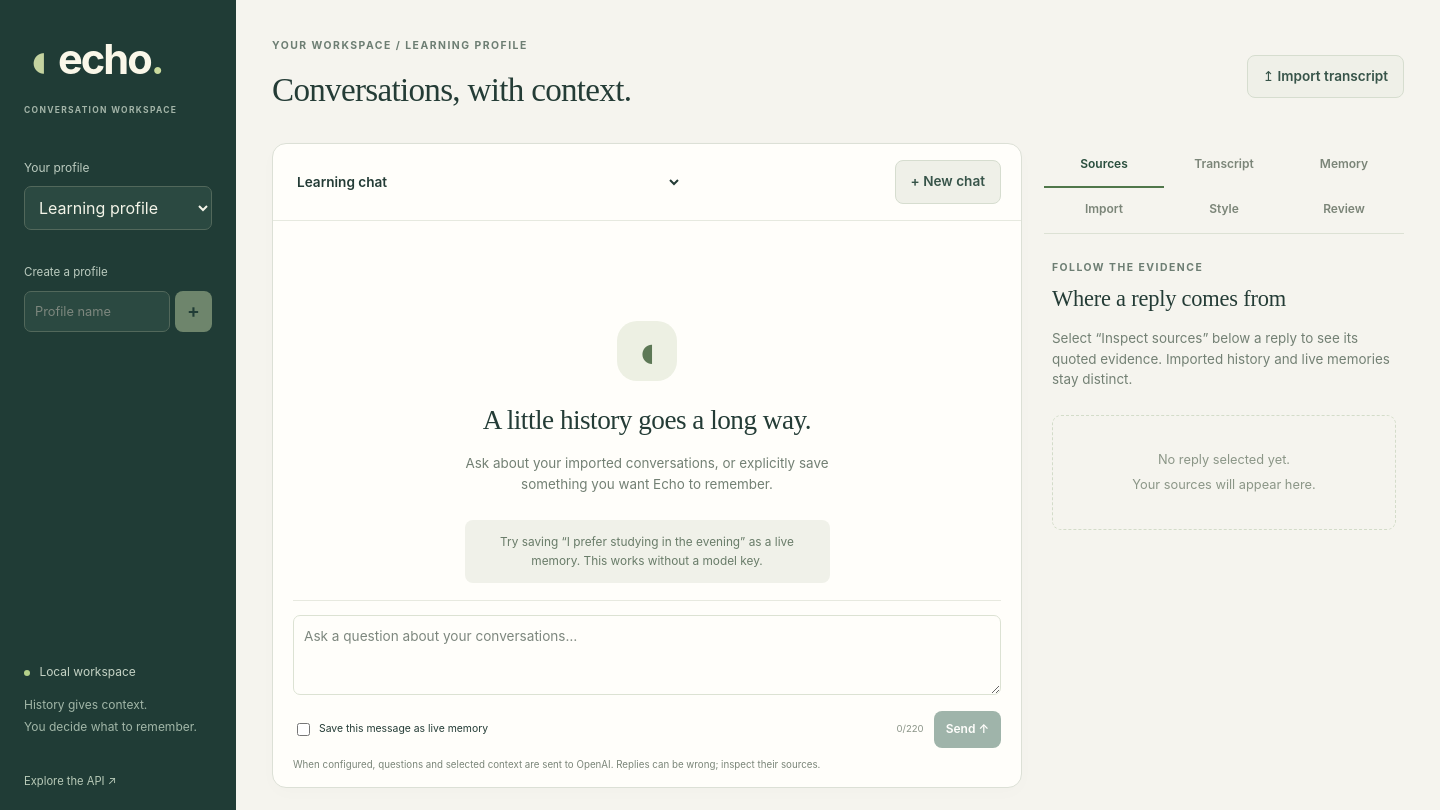
Test: revision conflicts refresh the stored revision before a deliberate retry
Type "When do I study?" into the text box named "Message".
click(647, 655); type("When do I study?")  # box [293,615,1001,695]
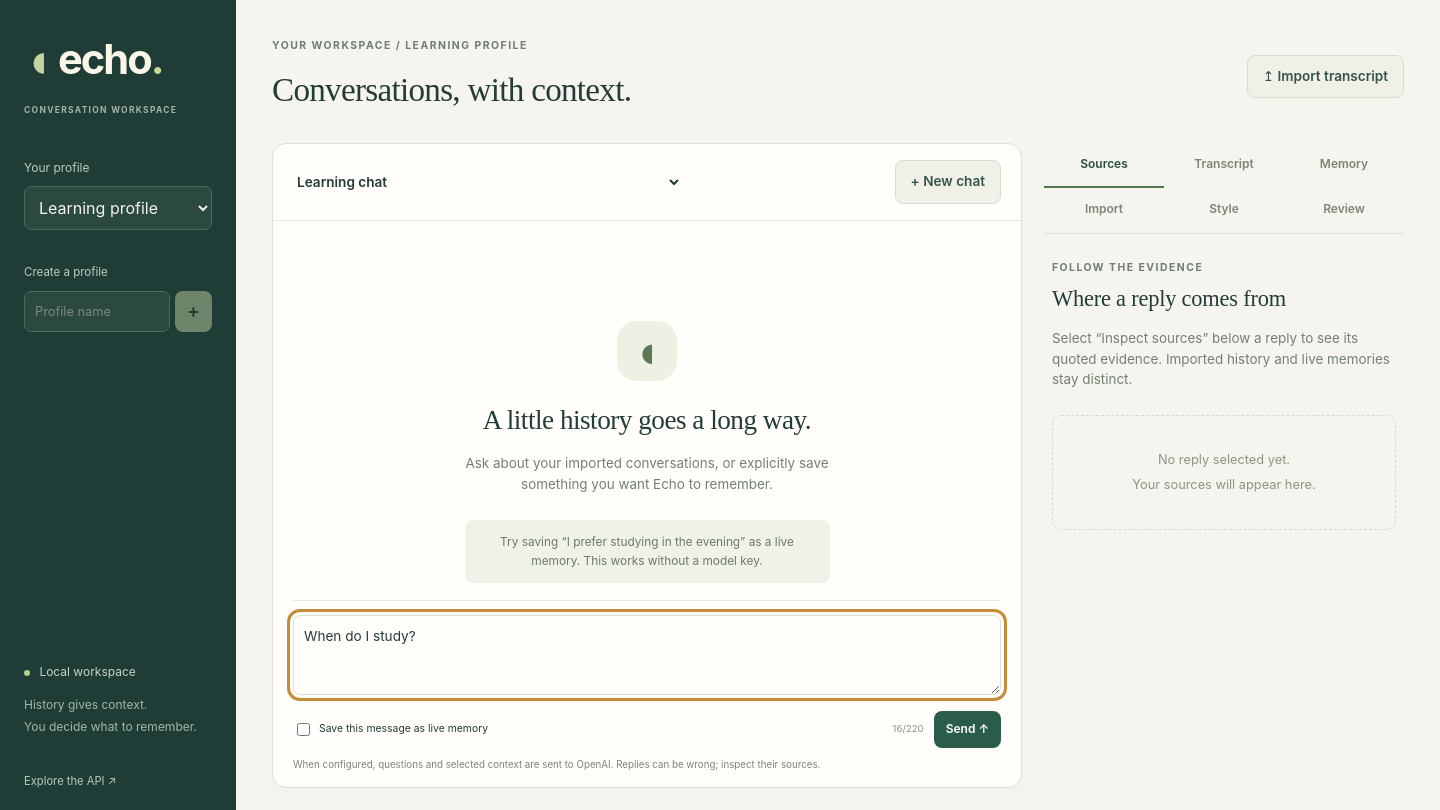
Click the button "Send ↑".
click(967, 730)  # box [934,711,1001,748]
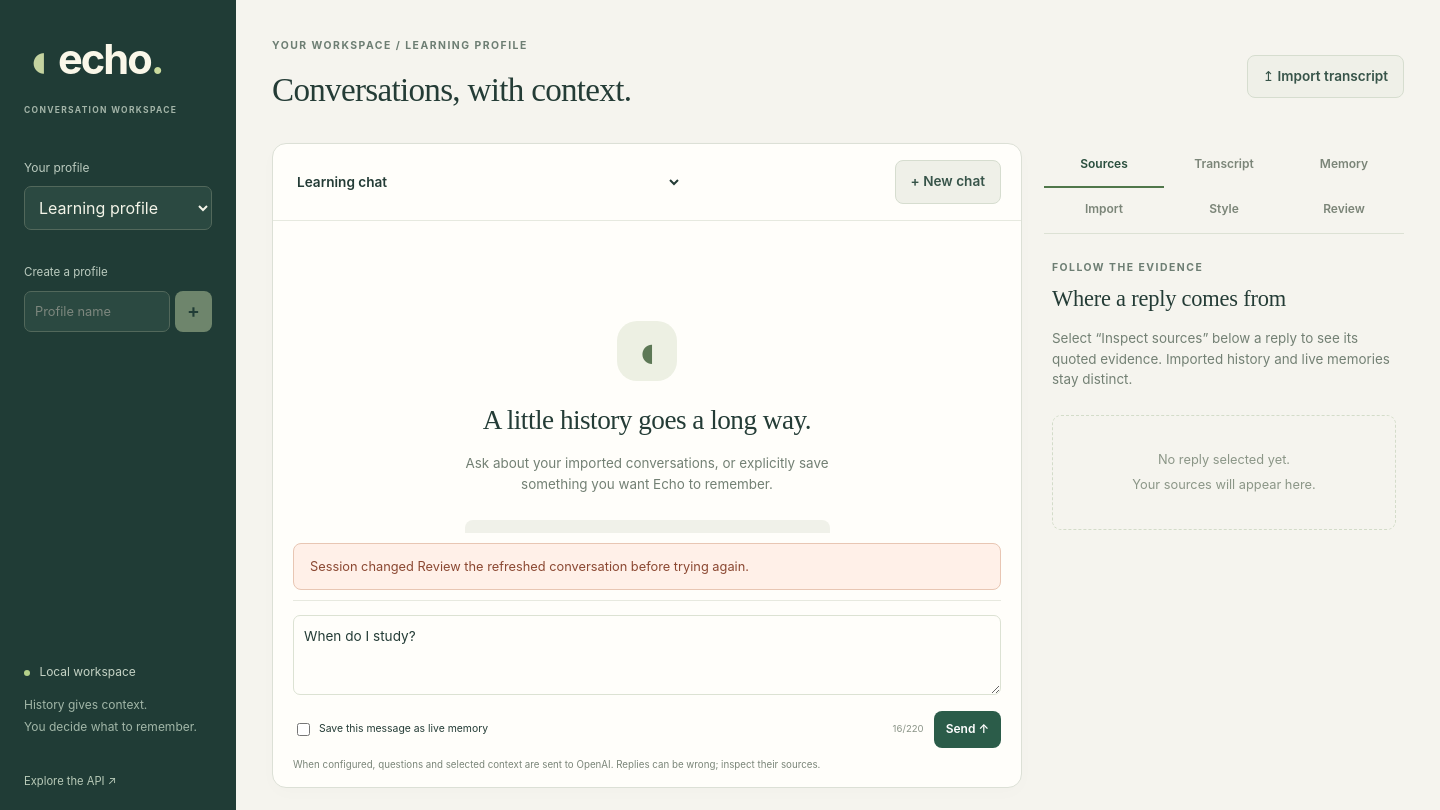
Expected: the message shows "Review the refreshed conversation", [310,559,749,574]
Click the button "Send ↑".
click(967, 730)  # box [934,711,1001,748]
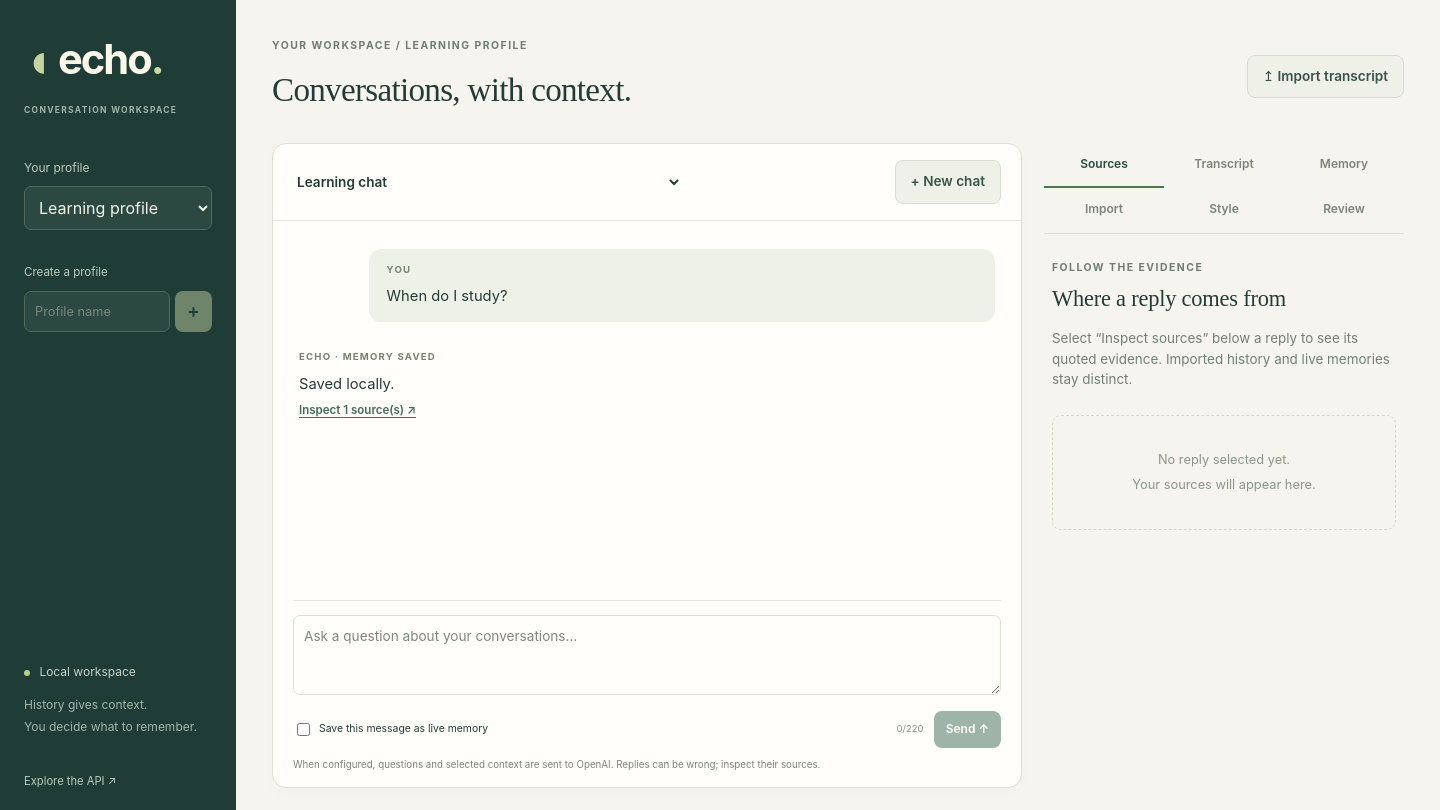
Expected: the text "Saved locally." is shown, [299,375,394,393]
